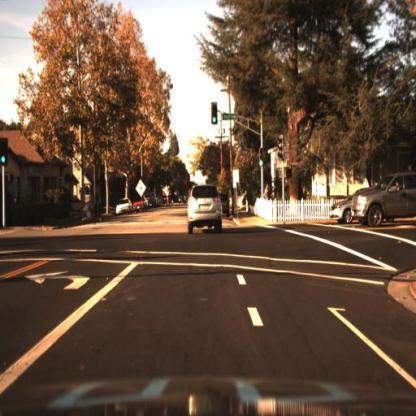car: (352, 174, 416, 228), (189, 186, 227, 235), (327, 185, 366, 221), (327, 192, 352, 224), (114, 197, 133, 219), (135, 194, 149, 218), (117, 198, 132, 217), (178, 191, 188, 214)
trafficLight-Green: (211, 101, 219, 129), (259, 148, 267, 169), (260, 158, 265, 174)
